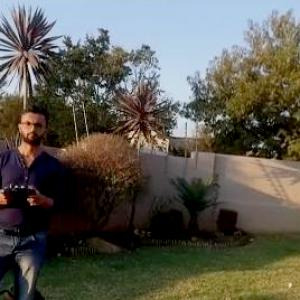follow: (0, 97, 65, 299)
